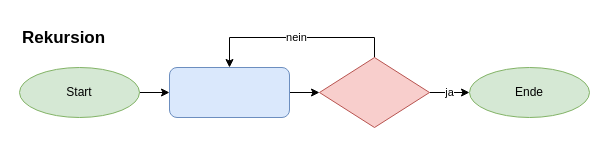
Image size: 607x145. Some labels were removed from this diagram. The shapes that lost their labels are listed below. From the top down, each one's centre as x and y in pixels, then its label:
At point 229,92: "mach etwas".
At point 374,92: "End-Bedingung erfüllt?".
